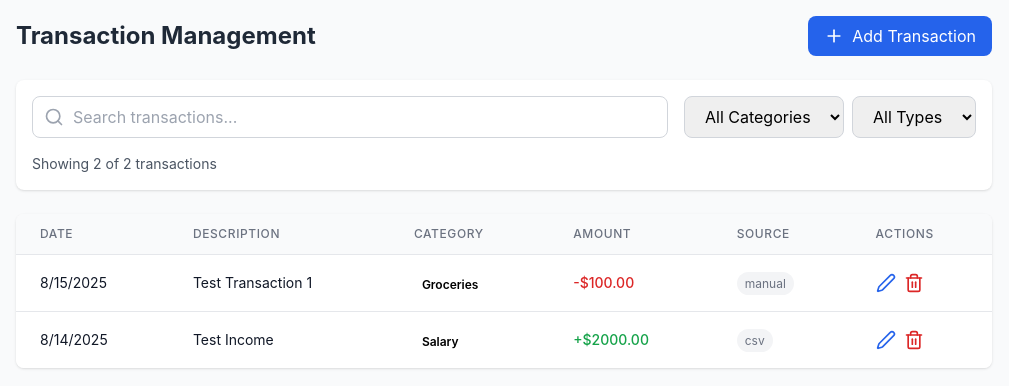
TransactionManager Component › filters transactions by search term
Type "Test Transaction 1" into the field with placeholder "Search transactions..." at point(350, 117), box [32,96,668,138]
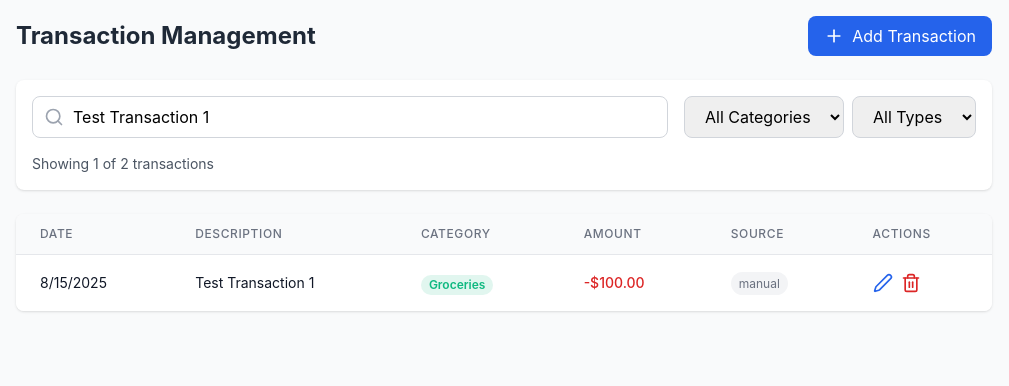
Expected: the text "Test Transaction 1" is shown, [171,254,397,311]
Expected: the text "Test Income" is gone
